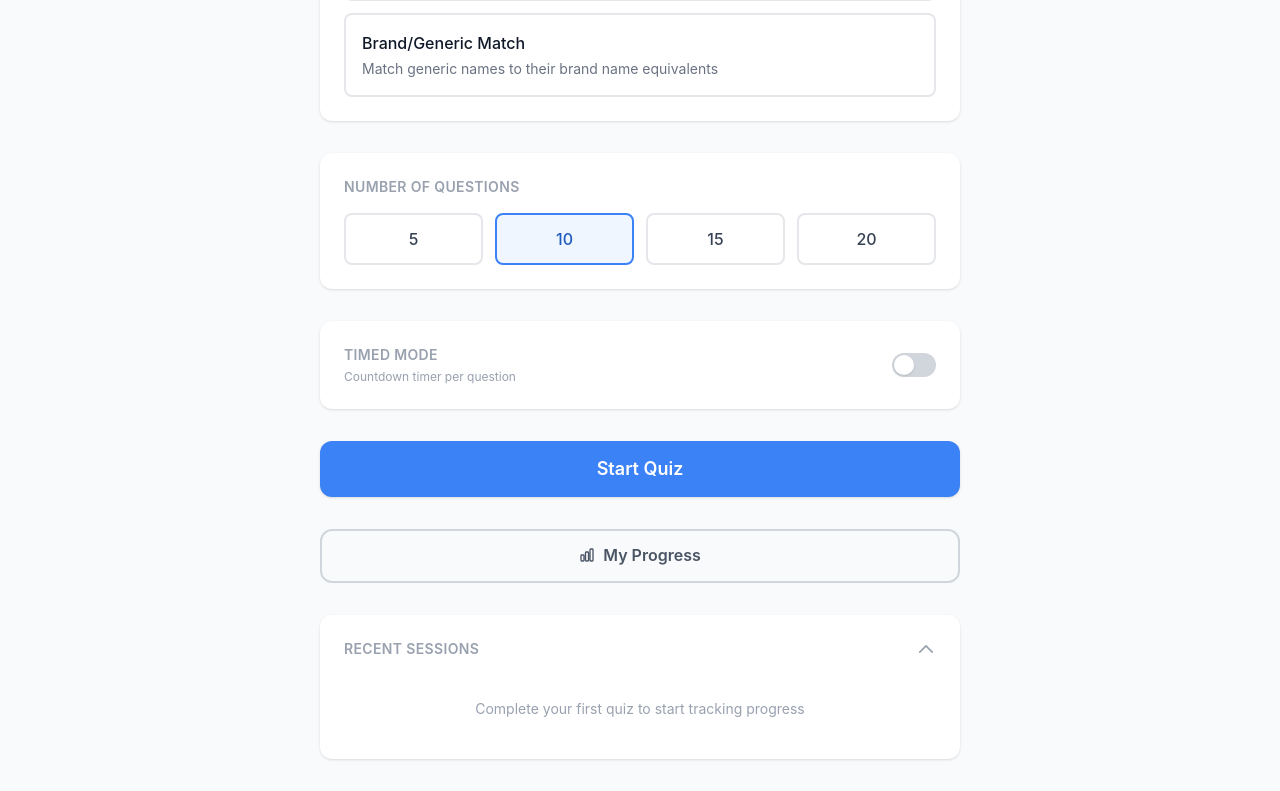
App › shows loading state after starting quiz
(page scrolled)
Click the button "Start Quiz": (640, 469) [320,441,960,497]
(page scrolled)
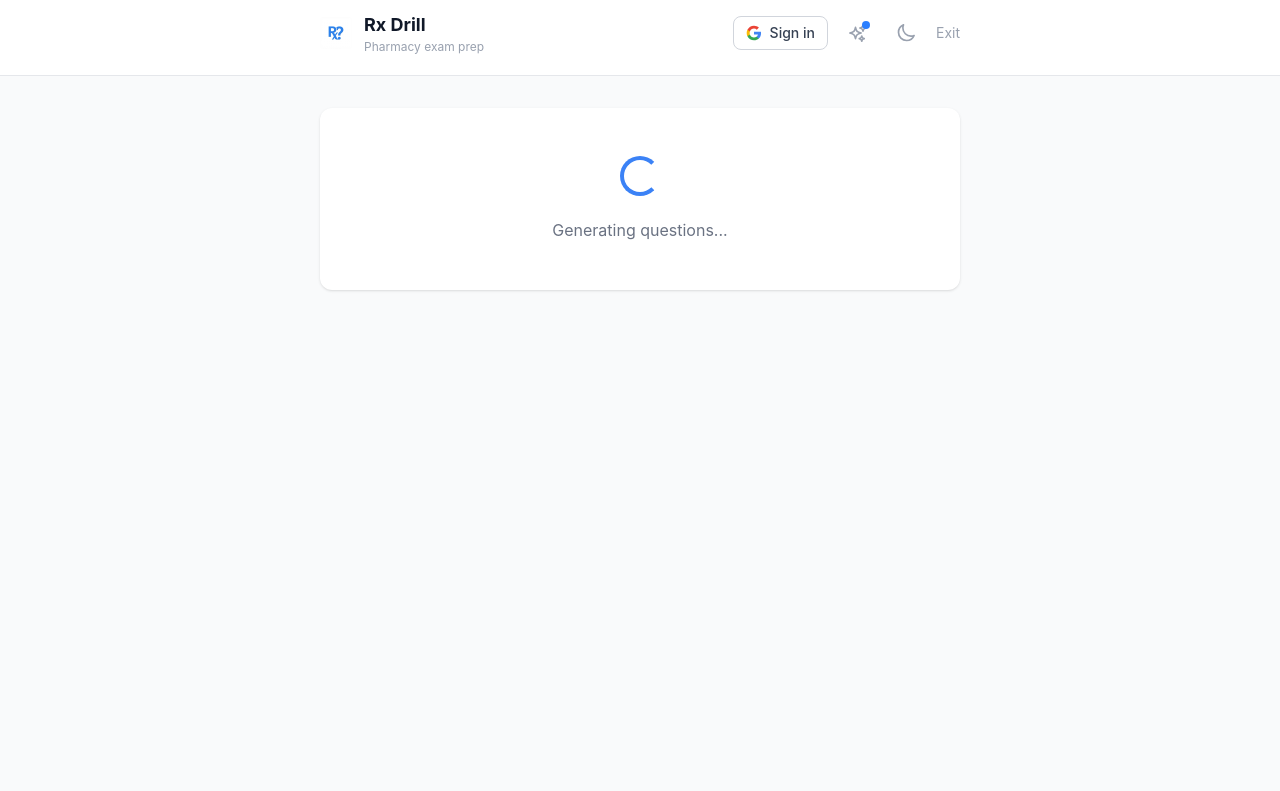
Expected: the text "Generating questions..." is shown, [552,220,728,240]
